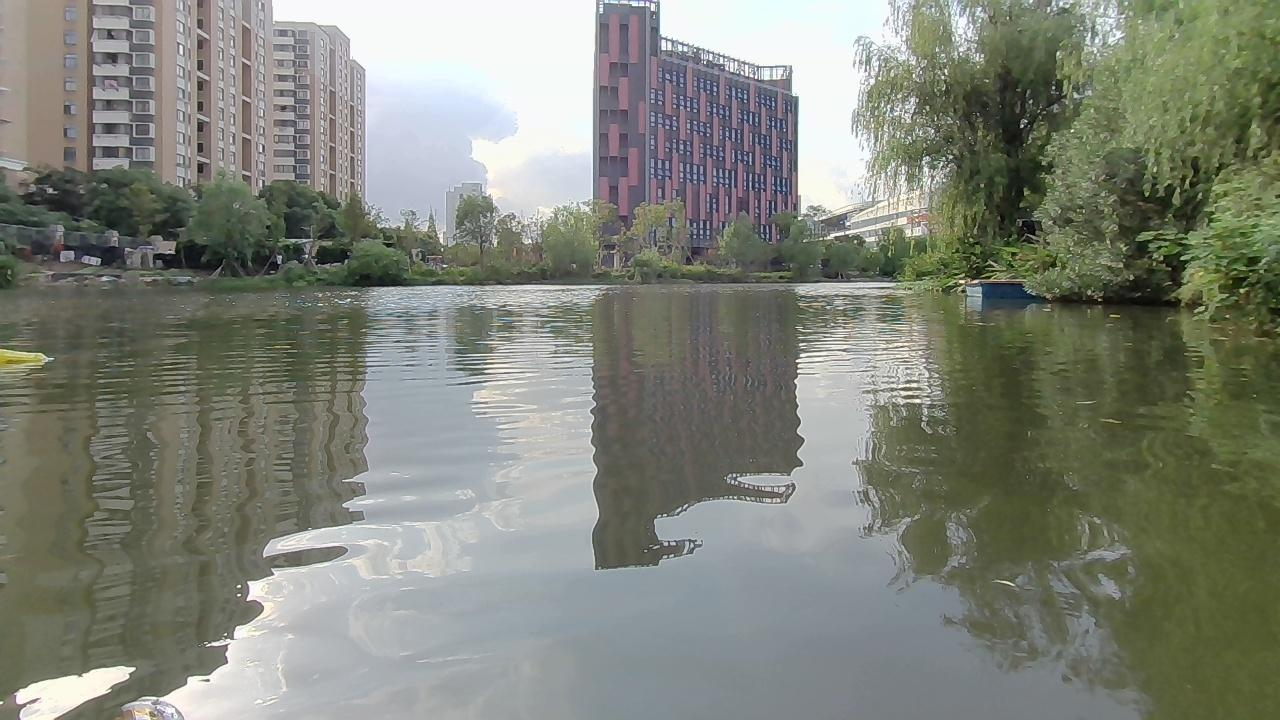bottle: (0, 341, 61, 370)
